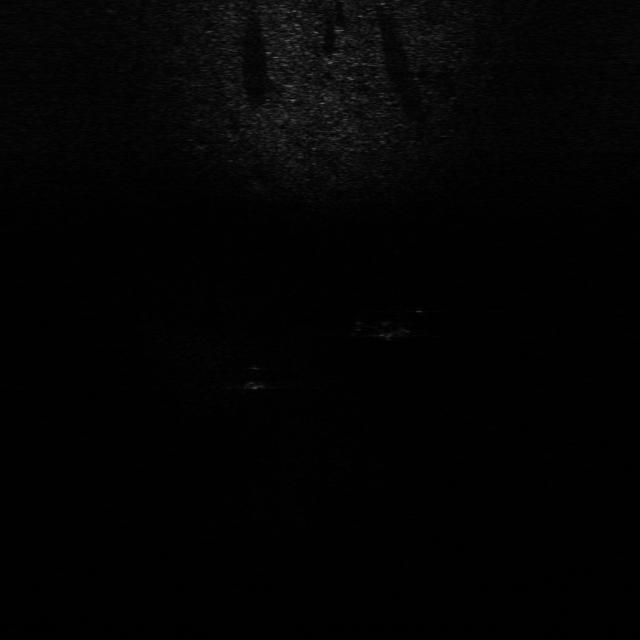ball: (234, 362, 277, 394)
human body: (352, 310, 427, 341)
